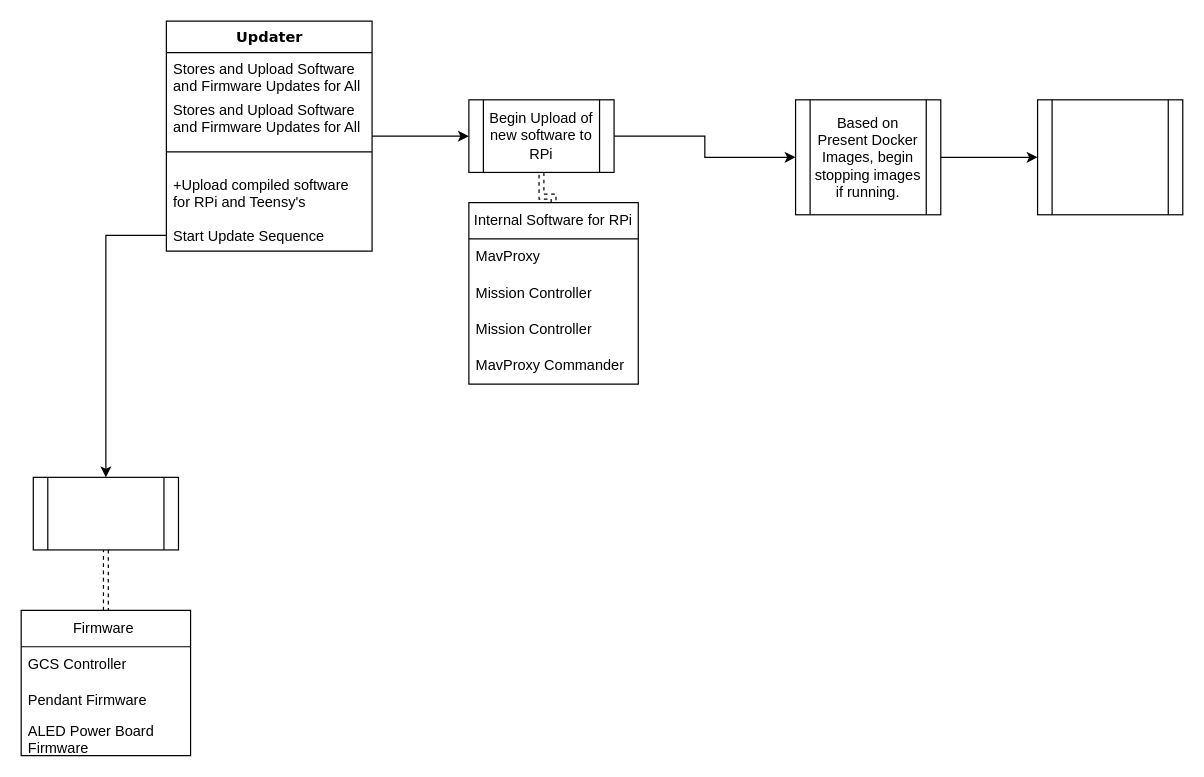
This 1204x777 diagram has some shape labels left out. Each missing label, with the centre of its shape:
"Begin Upload of New Teensy Firmware" belongs at pixel 105 513.
"Load New Version of Images and Start container via Docker Compose" belongs at pixel 1109 157.
